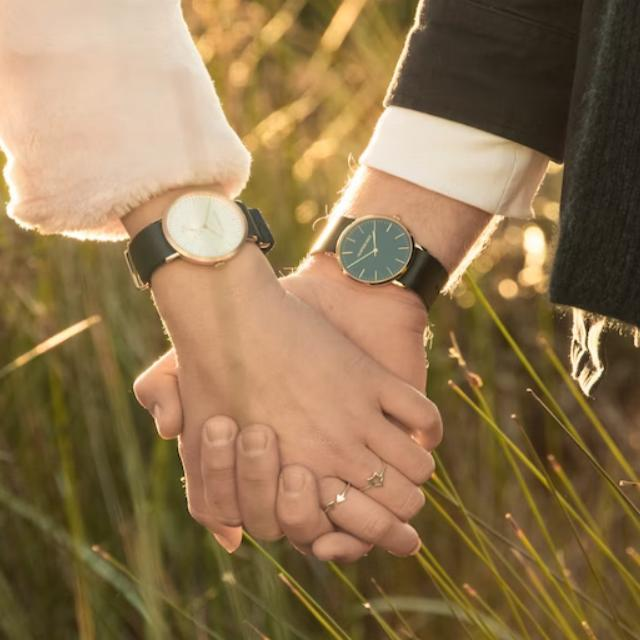Watch: (121, 190, 276, 288), (310, 211, 449, 311)
